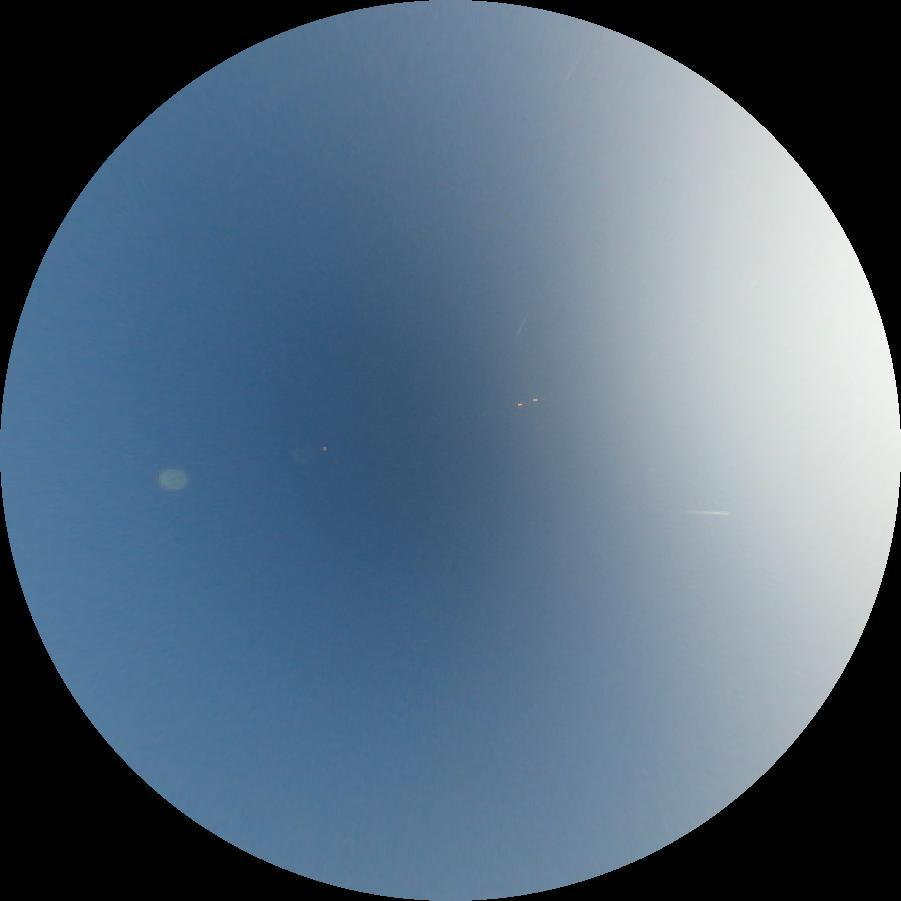contrail young: (515, 307, 533, 336), (565, 53, 582, 81), (680, 509, 733, 516)
